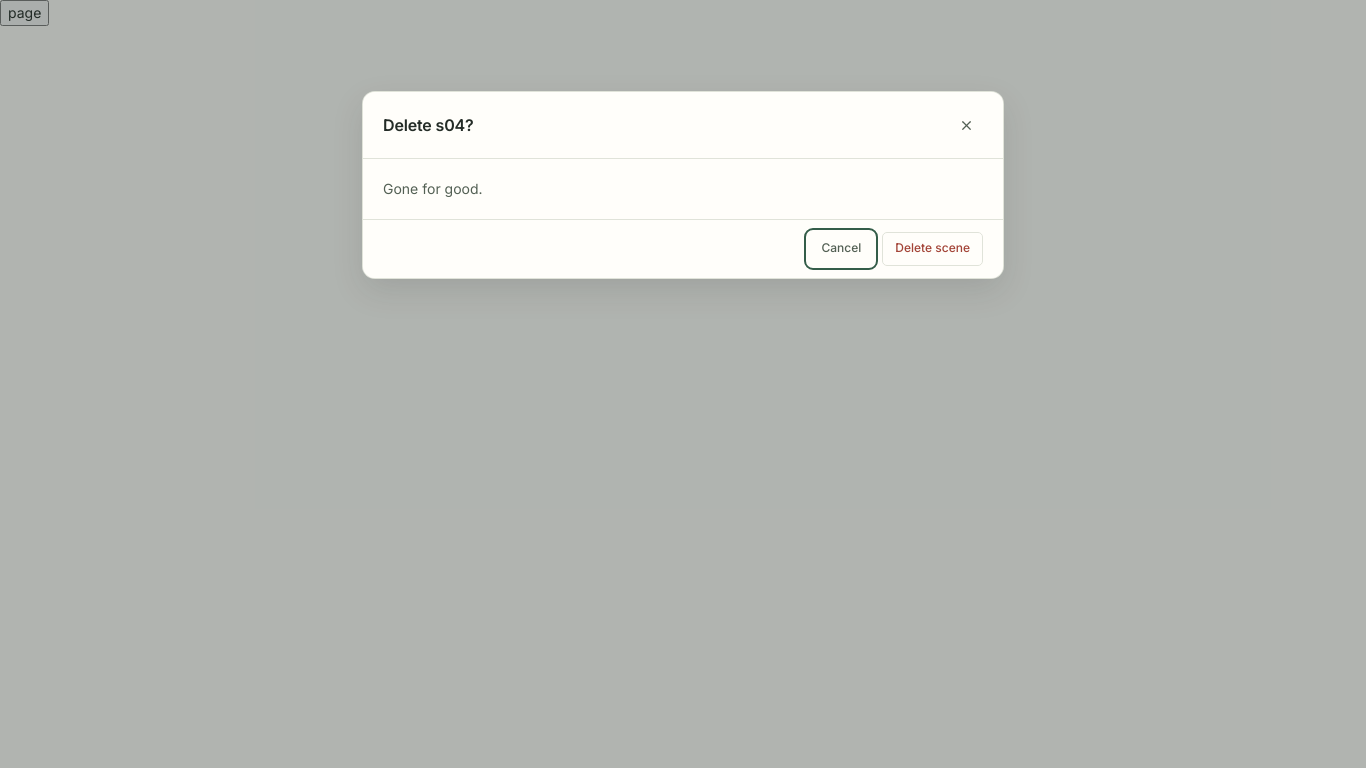
Test: confirm and prompt dialogs › confirm resolves true on the confirm button
Expected: the dialog "Delete s04?" is shown, [363,92,1003,278]
Expected: the button "Cancel" is shown, [808,232,874,266]
Click the button "Delete scene" at (933, 249), box [882,232,983,266]
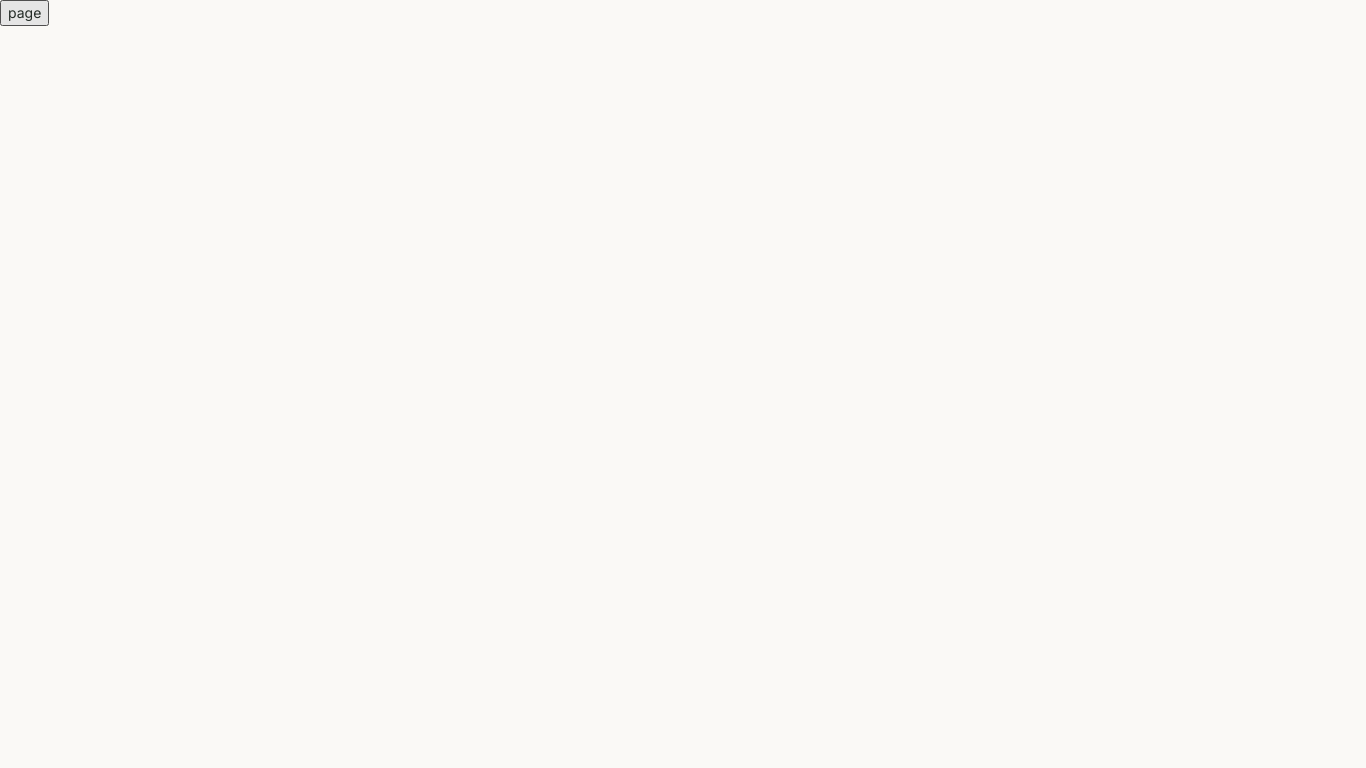
Expected: the dialog is gone
